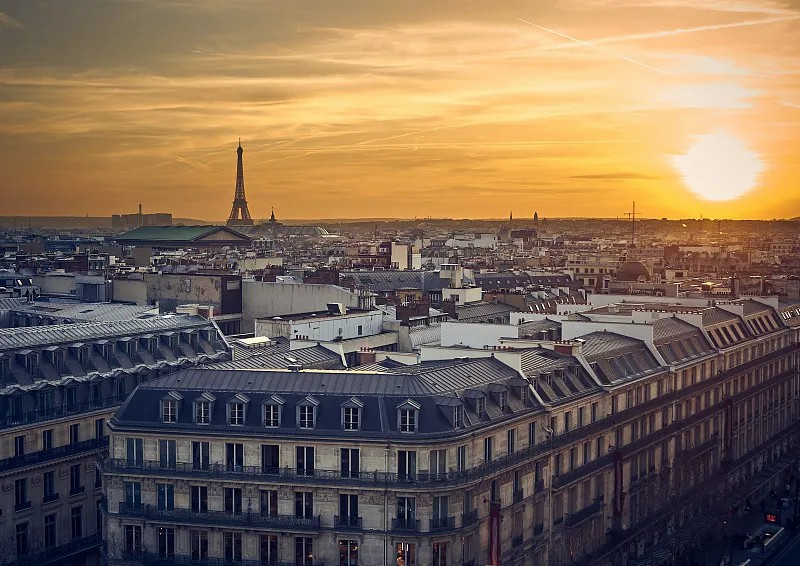Eiffel: (227, 138, 253, 228)
